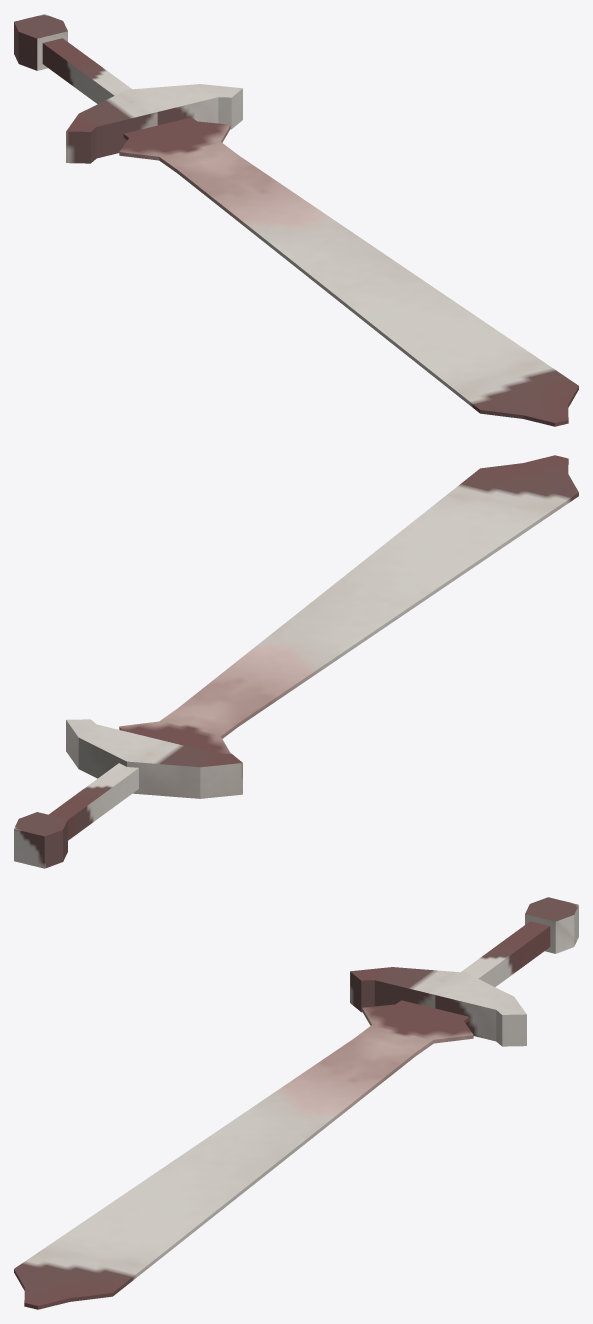
File: FBX_Character_Sword.fbx
3 renders of one model, top to bottom at view 1: azimuth 30°, elevation 25°; view 2: azimuth 150°, elevation 25°; view 3: azimuth 330°, elevation 25°, orthographic.
Visible parts, largest first — view 1: MSH_Character_Sword; view 2: MSH_Character_Sword; view 3: MSH_Character_Sword.
Part boxes in pixels (x1,y1,x2,y2): MSH_Character_Sword: [14, 14, 578, 426]; MSH_Character_Sword: [14, 455, 578, 868]; MSH_Character_Sword: [14, 897, 578, 1309].
Bounding box in the file's own units: 20.81 × 3.62 × 108.
